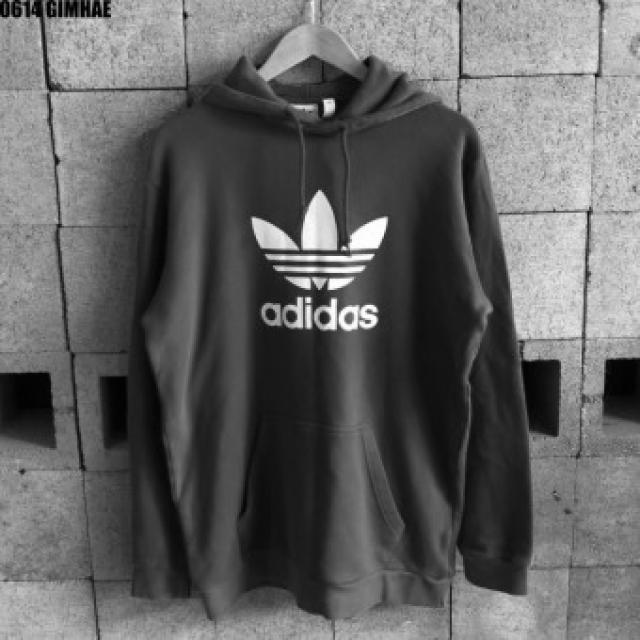Adidas: (239, 183, 401, 298)
